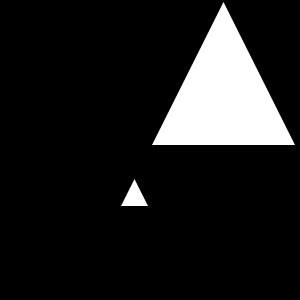triangle: (152, 2, 295, 145), (121, 179, 148, 206)
